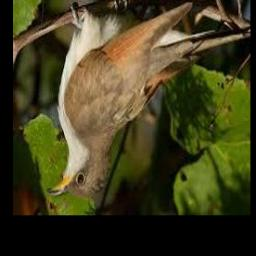Cuckoo: (47, 2, 196, 198)
